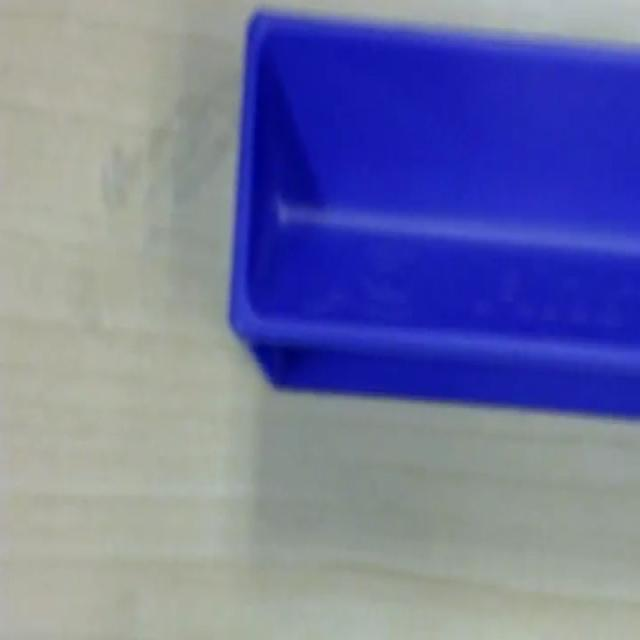blue_block: (226, 5, 638, 419)
